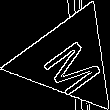M_NE: (32, 26, 104, 93)
